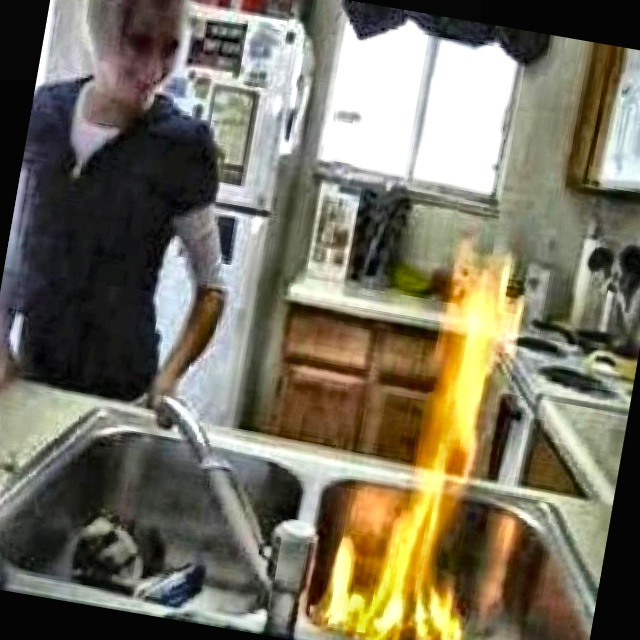fire: (305, 219, 545, 640)
